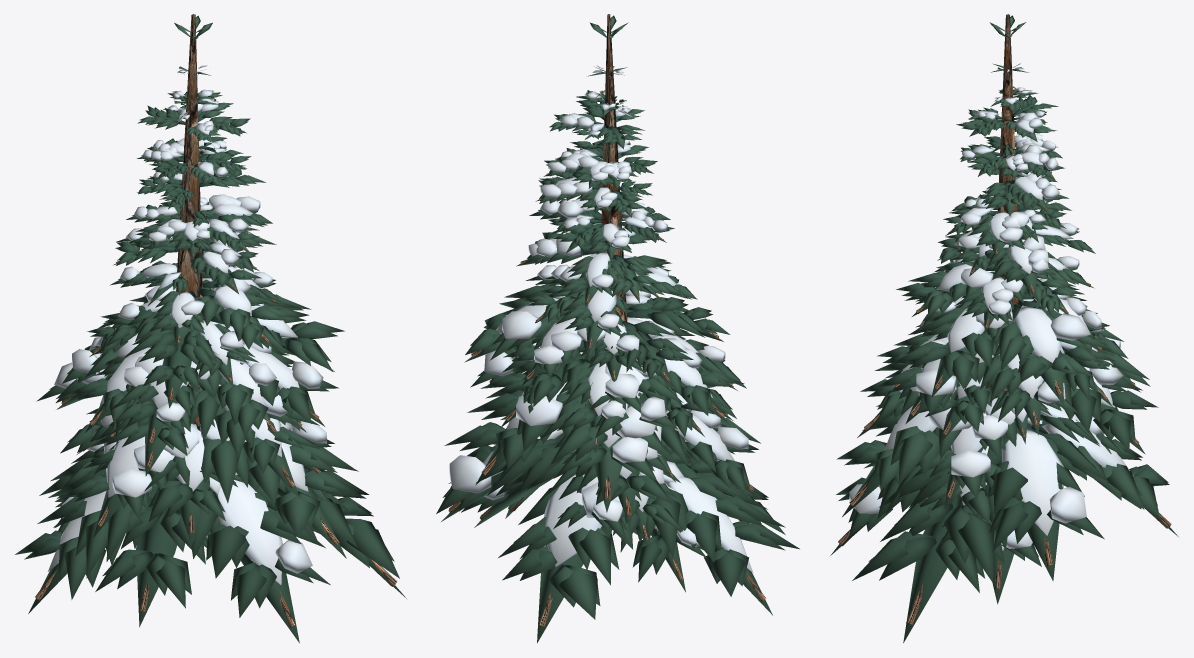
The model's file is tree15.glb.
The picture shows the model from 3 angles, left to right: view 1: azimuth 30°, elevation 25°; view 2: azimuth 150°, elevation 25°; view 3: azimuth 270°, elevation 25°; orthographic projection. The views are drawn at different scales.
Visible parts, largest first — view 1: Alpine15_1 (×2), Alpine15_2 (×2), Alpine15_0; view 2: Alpine15_1 (×2), Alpine15_2 (×2), Alpine15_0; view 3: Alpine15_1 (×2), Alpine15_2 (×2), Alpine15_0.
Part boxes in pixels (left/top/right/bottom): Alpine15_1 (×2): left=15, top=15, right=406, bottom=643; Alpine15_2 (×2): left=48, top=65, right=326, bottom=584; Alpine15_0: left=35, top=14, right=396, bottom=626; Alpine15_1 (×2): left=436, top=15, right=799, bottom=643; Alpine15_2 (×2): left=449, top=65, right=753, bottom=572; Alpine15_0: left=448, top=14, right=765, bottom=626; Alpine15_1 (×2): left=830, top=15, right=1178, bottom=642; Alpine15_2 (×2): left=849, top=61, right=1133, bottom=550; Alpine15_0: left=838, top=14, right=1171, bottom=624.
Size of the model in its own units: 12.65 by 21.15 by 12.09.
6 materials, 2 textured.
